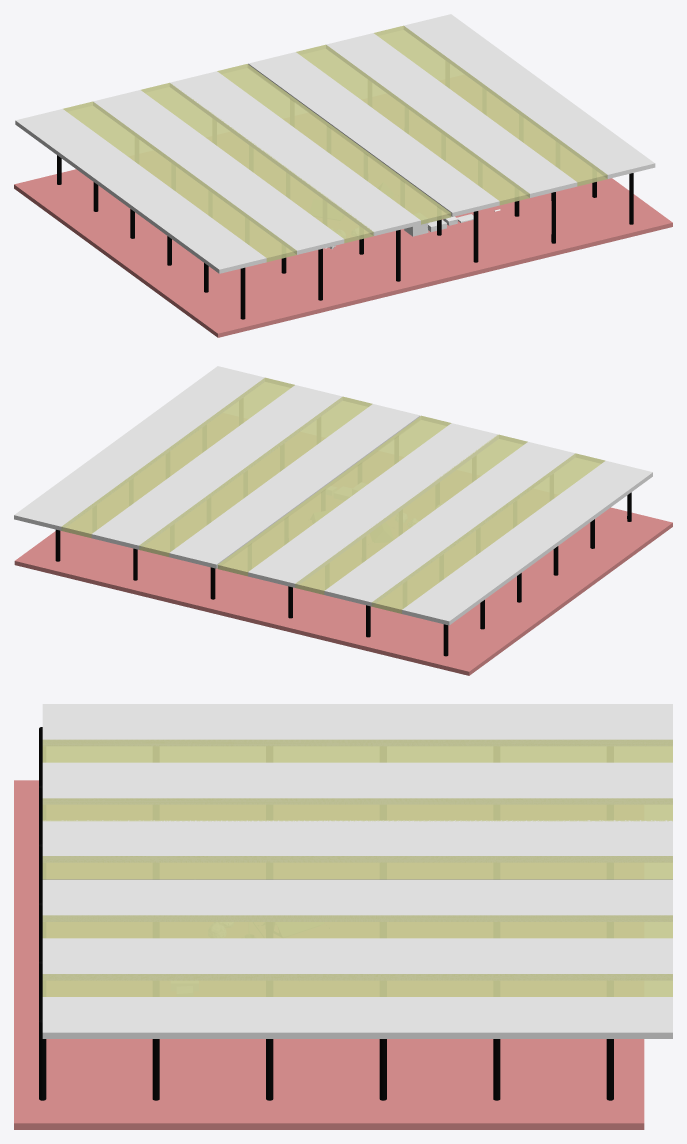
3 renders of one model, top to bottom at view 1: azimuth 30°, elevation 25°; view 2: azimuth 150°, elevation 25°; view 3: azimuth 270°, elevation 25°, orthographic. The views are drawn at different scales.
Visible parts, largest first — view 1: floor, light, Object_2, Object_6, Object_3, Object_7, Object_4, Object_5, pillar; view 2: light, floor, Object_2, Object_6, Object_4, Object_7, Object_3, Object_5, pillar; view 3: light, floor, Object_5, Object_7, Object_6, Object_3, Object_4, Object_2, pillar.
Boxes of the visible parts, bbox=[...] form: floor: bbox=[14, 169, 672, 337]; light: bbox=[63, 25, 607, 262]; Object_2: bbox=[15, 109, 266, 273]; Object_6: bbox=[170, 71, 420, 235]; Object_3: bbox=[404, 14, 655, 178]; Object_7: bbox=[93, 90, 344, 254]; Object_4: bbox=[326, 33, 577, 197]; Object_5: bbox=[248, 52, 499, 216]; pillar: bbox=[57, 155, 633, 319]; light: bbox=[61, 377, 605, 613]; floor: bbox=[14, 507, 672, 675]; Object_2: bbox=[402, 461, 652, 625]; Object_6: bbox=[248, 423, 498, 587]; Object_4: bbox=[91, 385, 342, 549]; Object_7: bbox=[324, 441, 575, 606]; Object_3: bbox=[14, 366, 264, 530]; Object_5: bbox=[169, 404, 420, 568]; pillar: bbox=[55, 492, 631, 656]; light: bbox=[42, 739, 672, 996]; floor: bbox=[14, 780, 644, 1129]; Object_5: bbox=[42, 879, 672, 921]; Object_7: bbox=[42, 762, 672, 804]; Object_6: bbox=[42, 820, 672, 862]; Object_3: bbox=[42, 997, 672, 1038]; Object_4: bbox=[42, 938, 672, 980]; Object_2: bbox=[42, 704, 672, 745]; pillar: bbox=[39, 727, 613, 1100].
Bounding box in the file's own units: 480 × 390 × 59.31.
